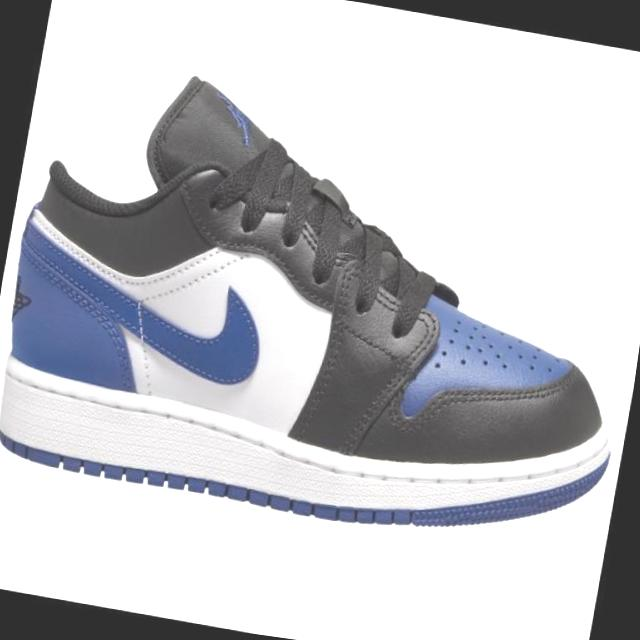nike_original_jordan: (0, 46, 640, 591)
